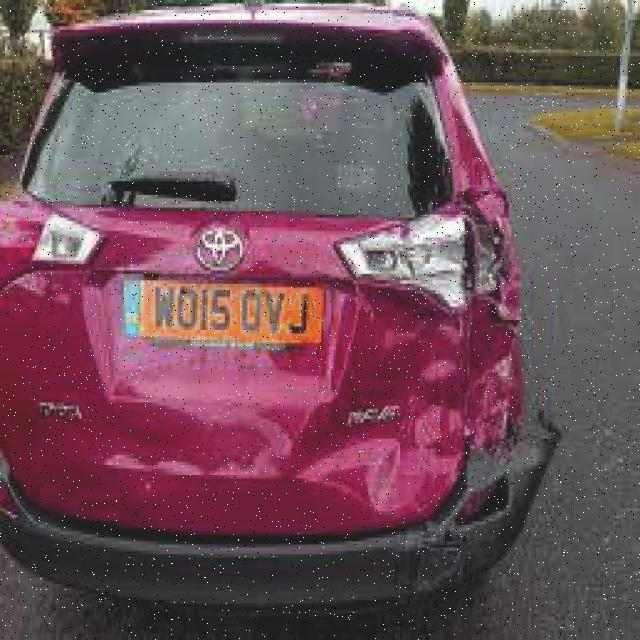car damage: (104, 176, 565, 595)
